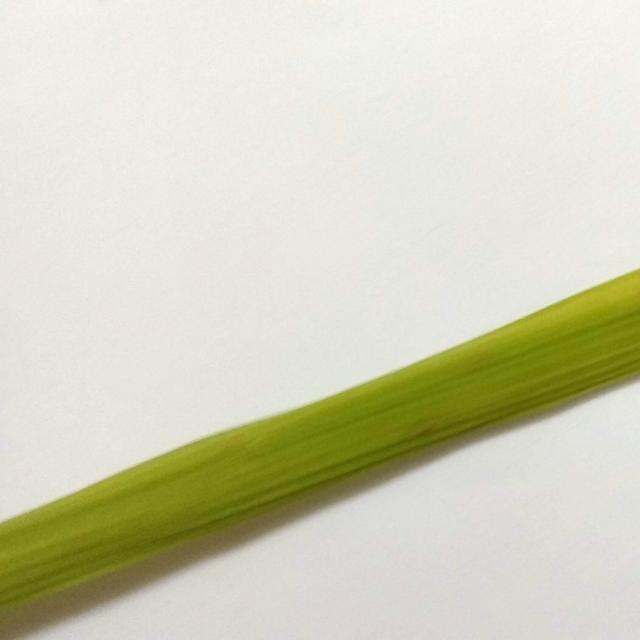Rice_Healthy: (0, 270, 640, 611)
